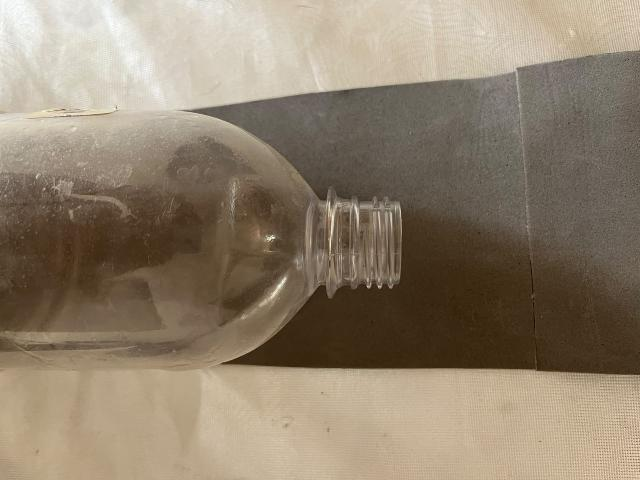PET: (0, 68, 492, 419)
